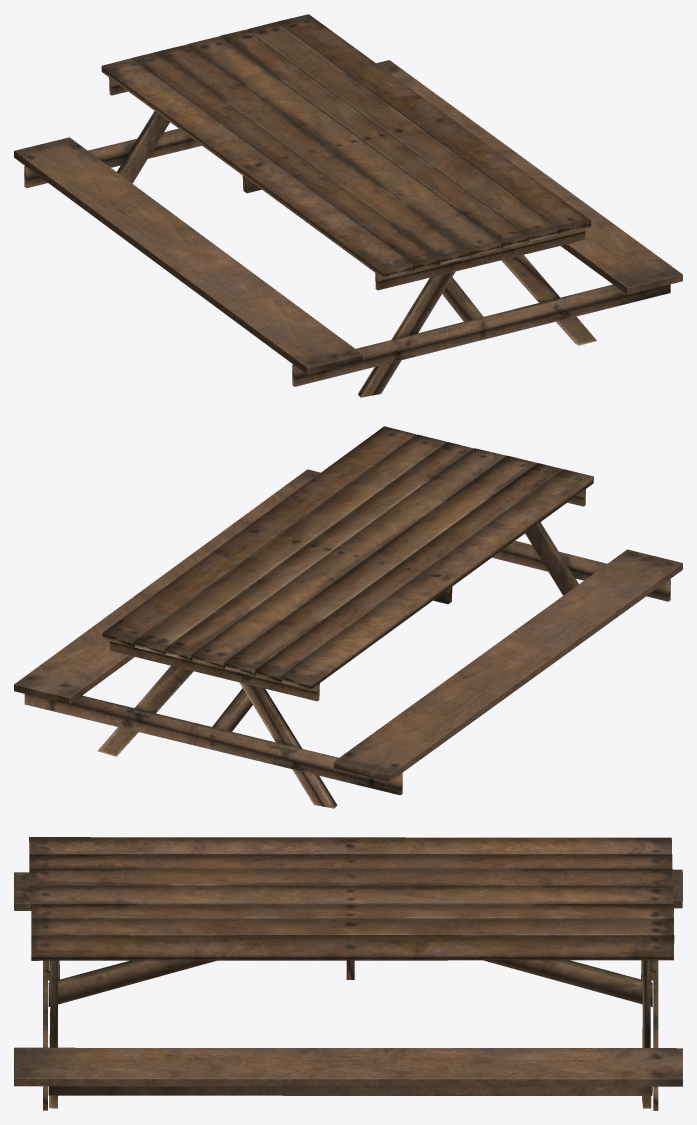
The model's file is wooden_picnic_table.gltf.
The picture shows the model from 3 angles, top to bottom: view 1: azimuth 30°, elevation 25°; view 2: azimuth 150°, elevation 25°; view 3: azimuth 270°, elevation 25°; orthographic projection. The views are drawn at different scales.
Visible parts, largest first — view 1: wooden_picnic_table; view 2: wooden_picnic_table; view 3: wooden_picnic_table.
Boxes of the visible parts, bbox=[...] form: wooden_picnic_table: bbox=[14, 14, 682, 397]; wooden_picnic_table: bbox=[14, 426, 682, 808]; wooden_picnic_table: bbox=[14, 837, 682, 1110].
Bounding box in the file's own units: 2.24 × 0.7414 × 3.02.
Materials: 2 (2 with a texture image).
